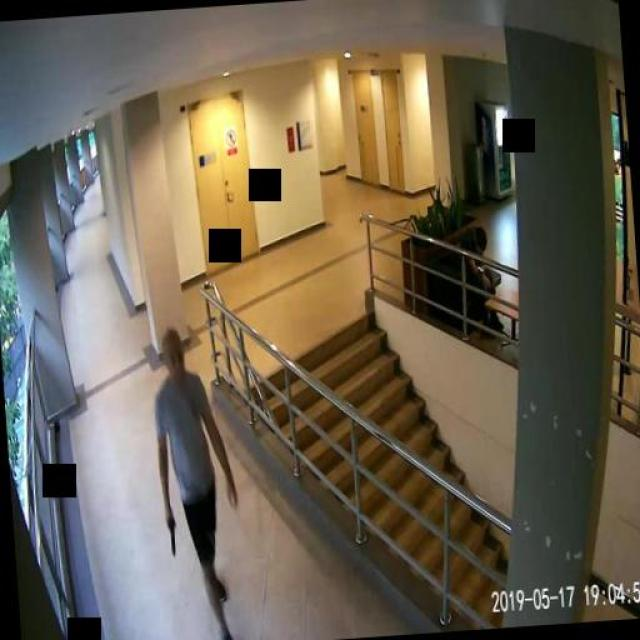gun: (165, 512, 177, 552)
